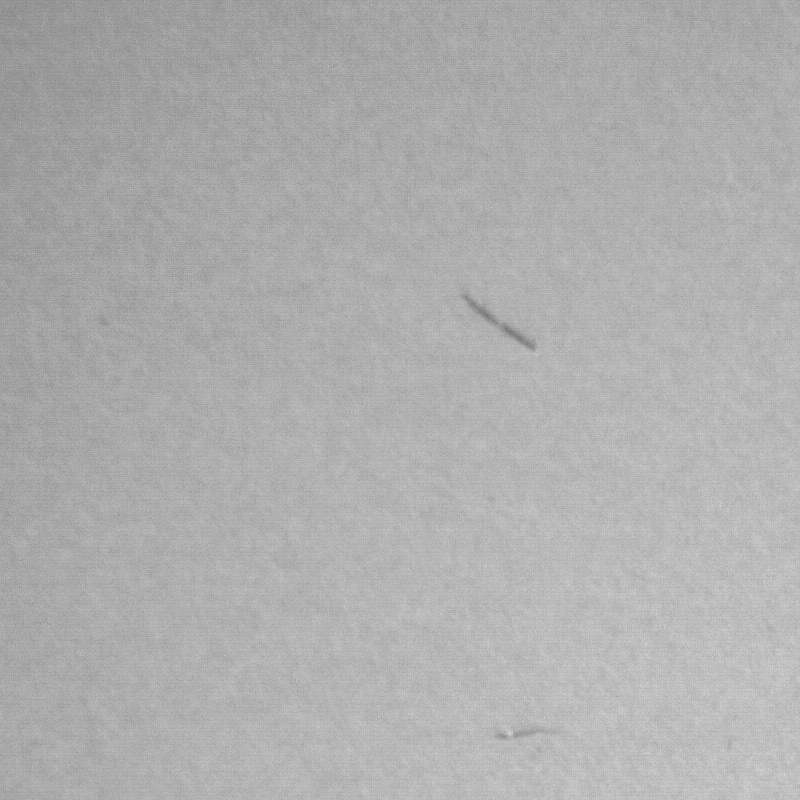defect: (465, 294, 545, 356), (492, 723, 595, 751), (94, 309, 130, 338)
